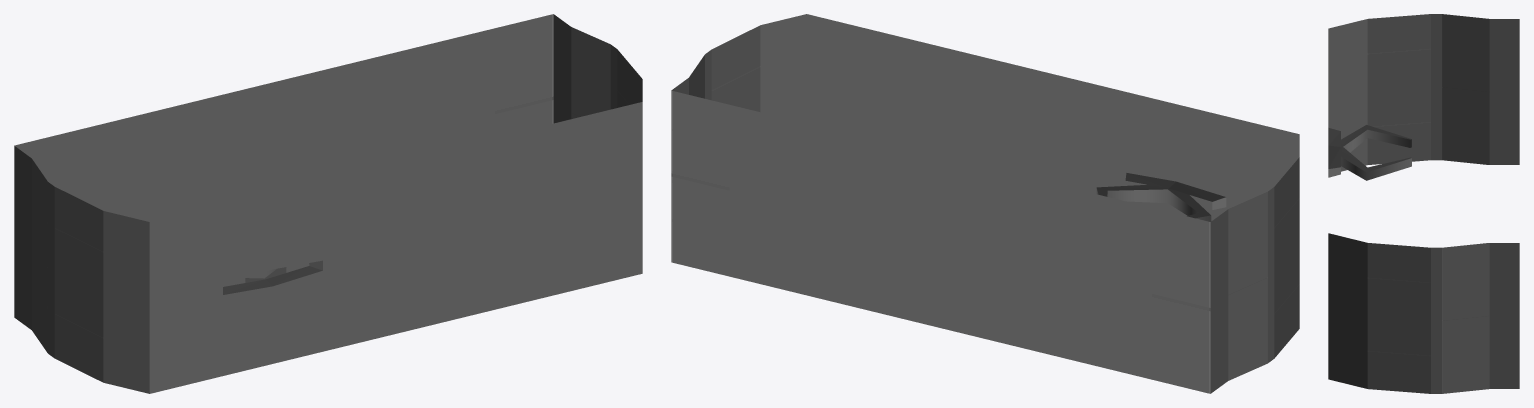
3 views of the same model, side by side, from view 1: azimuth 30°, elevation 25°; view 2: azimuth 150°, elevation 25°; view 3: azimuth 270°, elevation 25° (orthographic). The views are drawn at different scales.
Visible parts, largest first — view 1: group_13; view 2: group_13; view 3: group_13.
Part boxes in pixels (left/top/right/bottom): group_13: left=14, top=14, right=642, bottom=393; group_13: left=671, top=14, right=1299, bottom=393; group_13: left=1328, top=14, right=1519, bottom=393.
Bounding box in the file's own units: 14034 × 4096 × 4849.
Materials: 1 (1 with a texture image).
